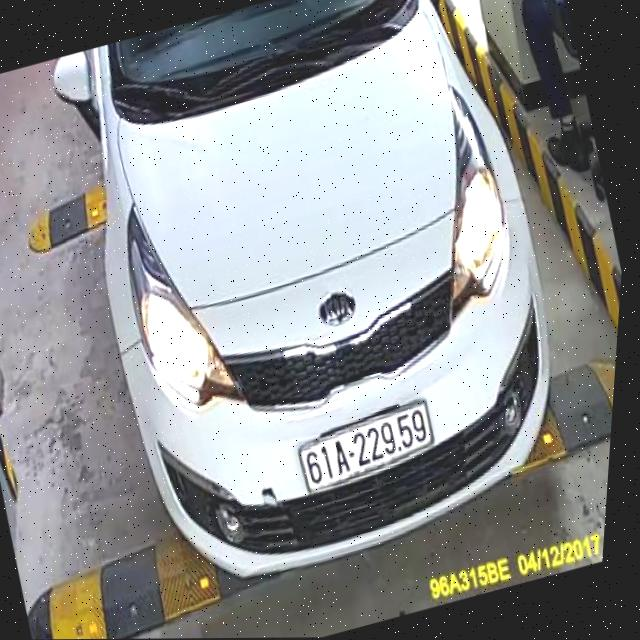car: (9, 0, 622, 612)
plate: (289, 399, 442, 494)
